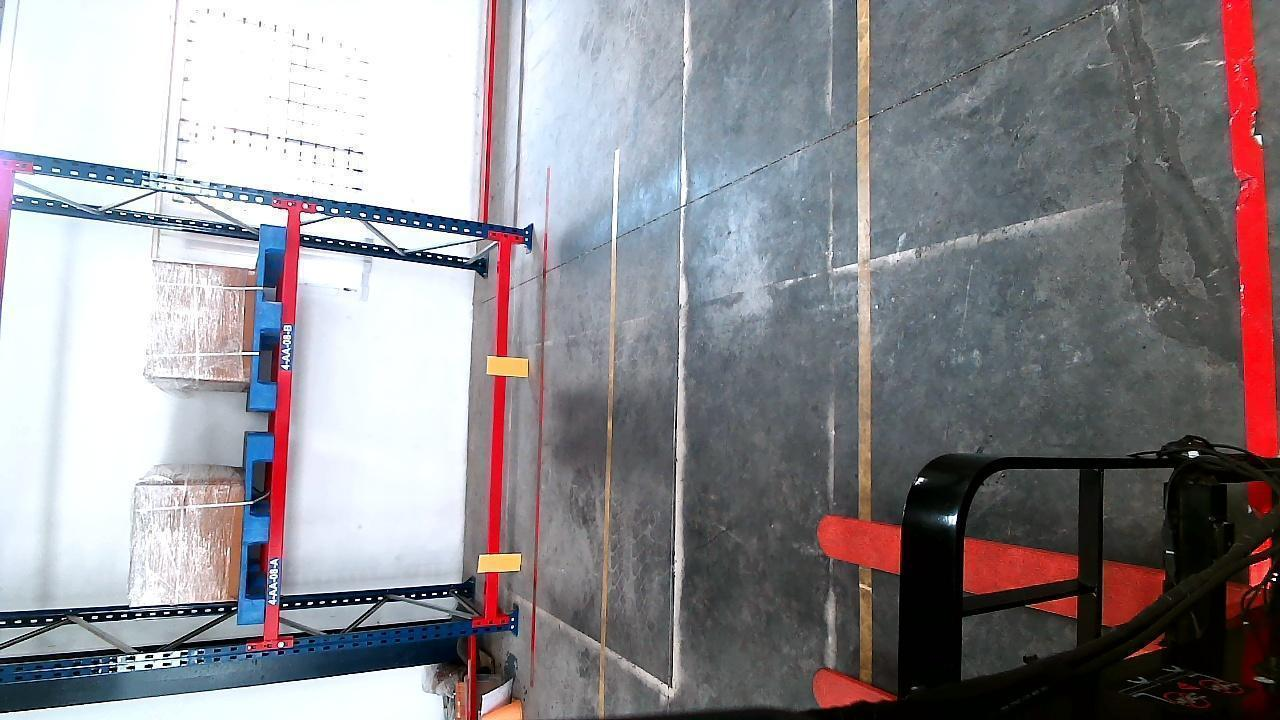yellow_line: (597, 146, 628, 714), (854, 0, 876, 504)
